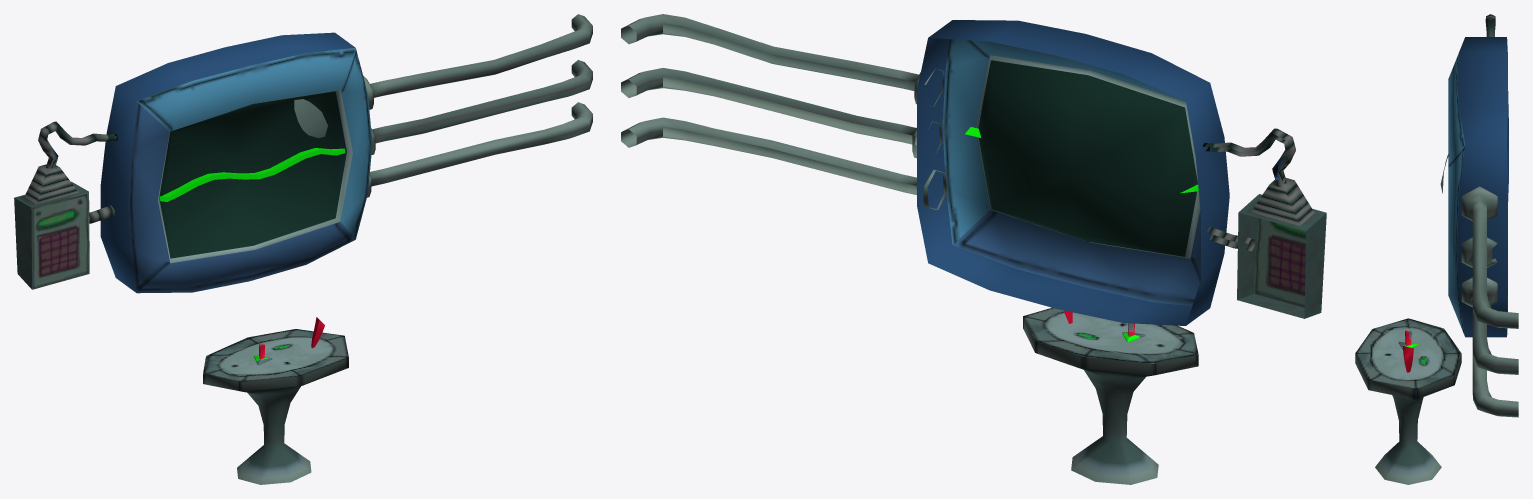
File: karen_bind.obj
3 renders of one model, left to right at view 1: azimuth 30°, elevation 25°; view 2: azimuth 150°, elevation 25°; view 3: azimuth 270°, elevation 25°, orthographic. The views are drawn at different scales.
Parts seen in each view (by area): view 1: Material_#99, Material_#100; view 2: Material_#99; view 3: Material_#99.
Part boxes in pixels (box(x1,y1,x2,y2)): Material_#99: box(14, 14, 592, 484); Material_#100: box(159, 99, 345, 201); Material_#99: box(621, 14, 1326, 484); Material_#99: box(1355, 14, 1518, 484).
Size of the model in its own units: 26.43 by 16.93 by 6.45.
Materials: 1 (1 with a texture image).
